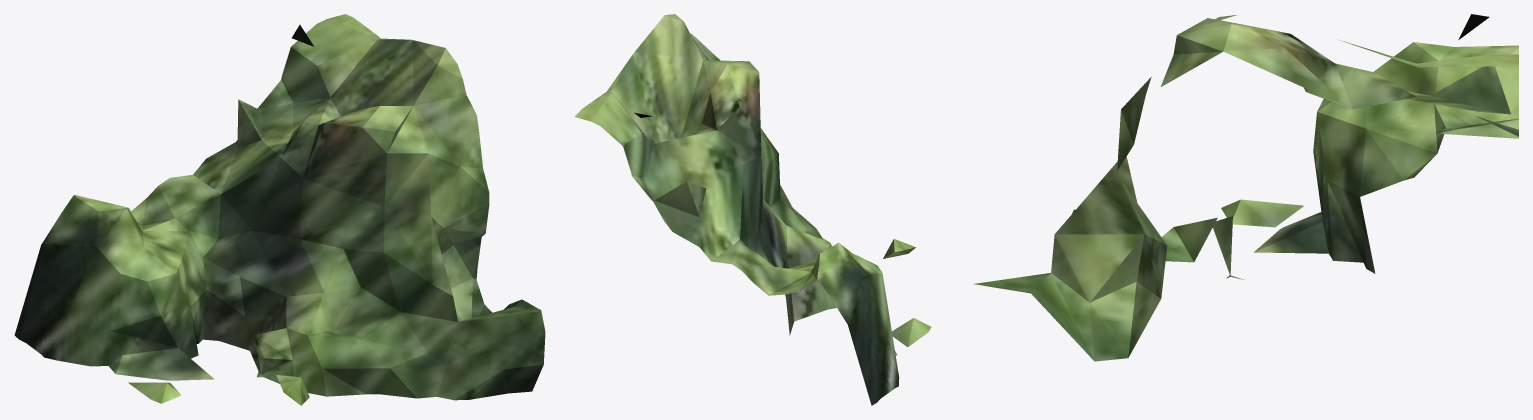
3 renders of one model, left to right at view 1: azimuth 30°, elevation 25°; view 2: azimuth 150°, elevation 25°; view 3: azimuth 270°, elevation 25°, orthographic. The views are drawn at different scales.
Size of the model in its own units: 7.61 by 6.15 by 7.96.
Materials: 1 (1 with a texture image).
